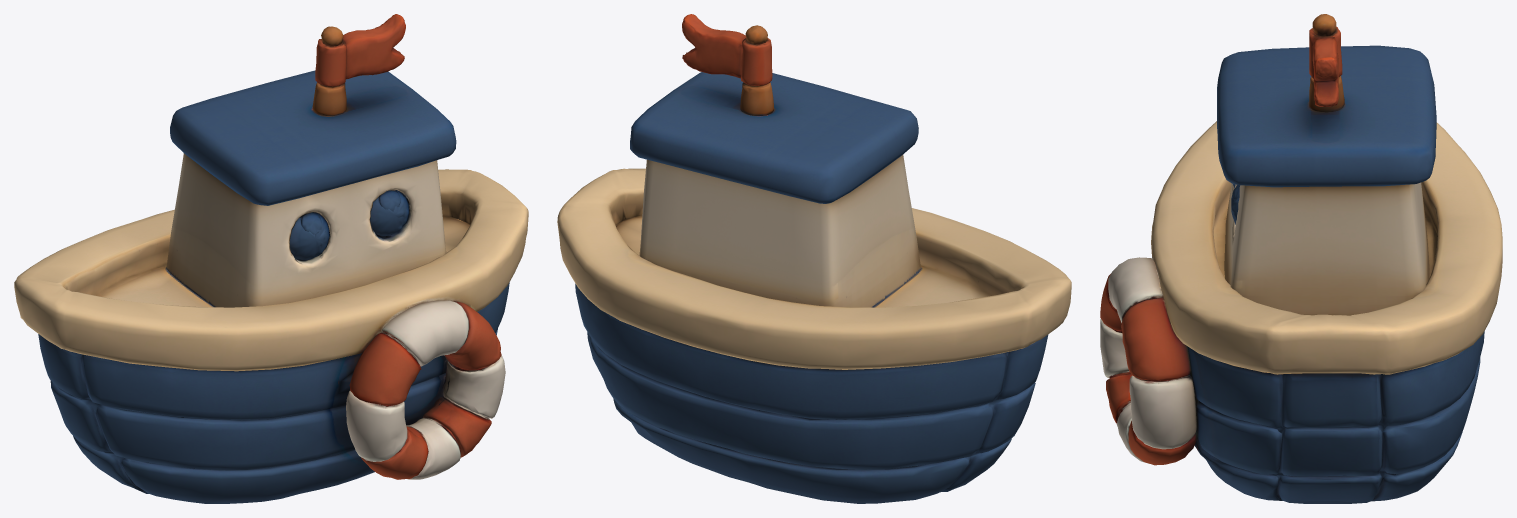
Rendered from mem_ac_boat.fbx.
The picture shows the model from 3 angles, left to right: view 1: azimuth 30°, elevation 25°; view 2: azimuth 150°, elevation 25°; view 3: azimuth 270°, elevation 25°; orthographic projection. The views are drawn at different scales.
Visible parts, largest first — view 1: tripo_node_f5c254e7-fc92-4f54-a5cf-d6f4ab566291; view 2: tripo_node_f5c254e7-fc92-4f54-a5cf-d6f4ab566291; view 3: tripo_node_f5c254e7-fc92-4f54-a5cf-d6f4ab566291.
Boxes of the visible parts, x1=… form: tripo_node_f5c254e7-fc92-4f54-a5cf-d6f4ab566291: x1=14, y1=14, x2=528, y2=503; tripo_node_f5c254e7-fc92-4f54-a5cf-d6f4ab566291: x1=557, y1=14, x2=1071, y2=503; tripo_node_f5c254e7-fc92-4f54-a5cf-d6f4ab566291: x1=1100, y1=14, x2=1502, y2=503.
Bounding box in the file's own units: 0.998 × 0.8418 × 0.666.
1 material, 1 textured.
